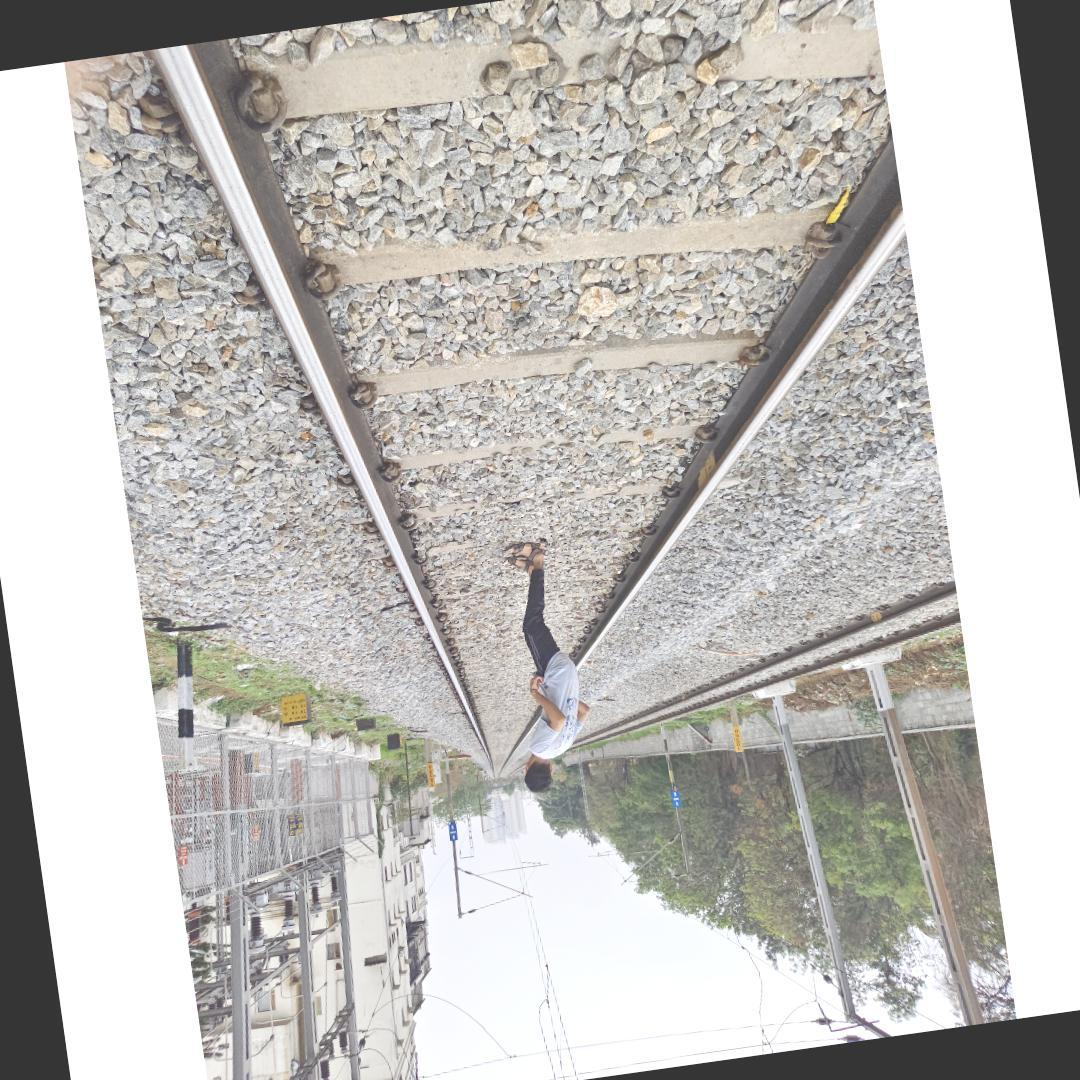standing: (489, 535, 601, 796)
track: (119, 0, 911, 778)
